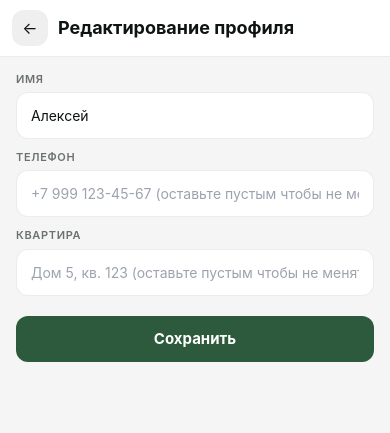
Test: EditProfileScreen › ошибка PATCH показывает form-error
Expected: the field with test id "input-display-name" holds "Алексей", [16,92,374,139]
What coordinates should you click on to do the following:
click the button with test id "submit-btn"
I would click on:
 (195, 339)
Its box is [16,316,374,362].
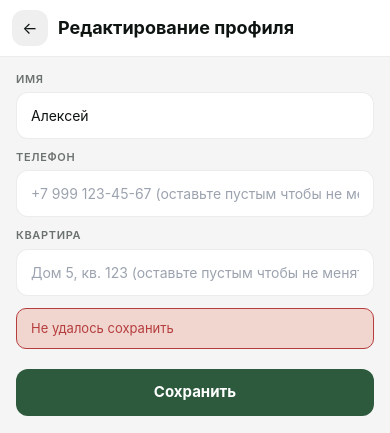
Now the text with test id "form-error" reads "Не удалось сохранить", box [31,320,174,336]
